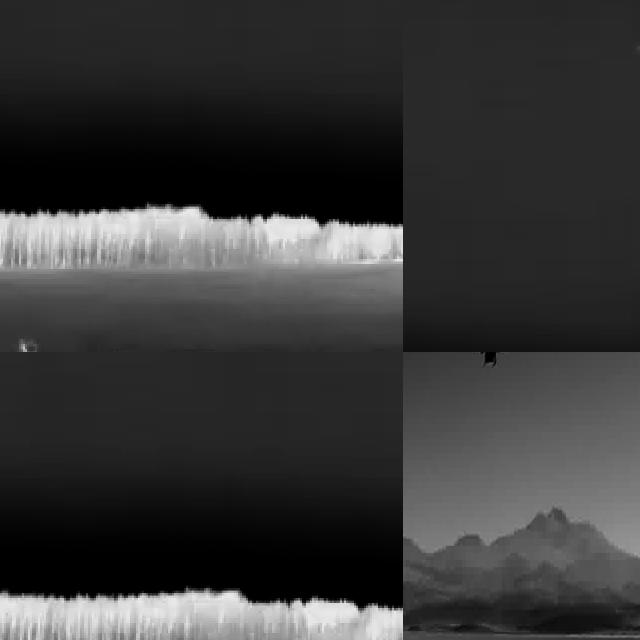0: (631, 38, 640, 61)
drone: (470, 352, 514, 375)
